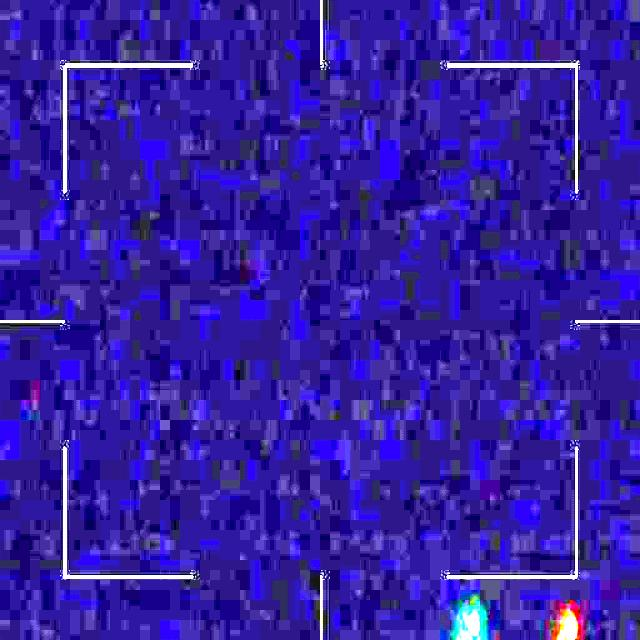bird: (455, 604, 578, 640)
